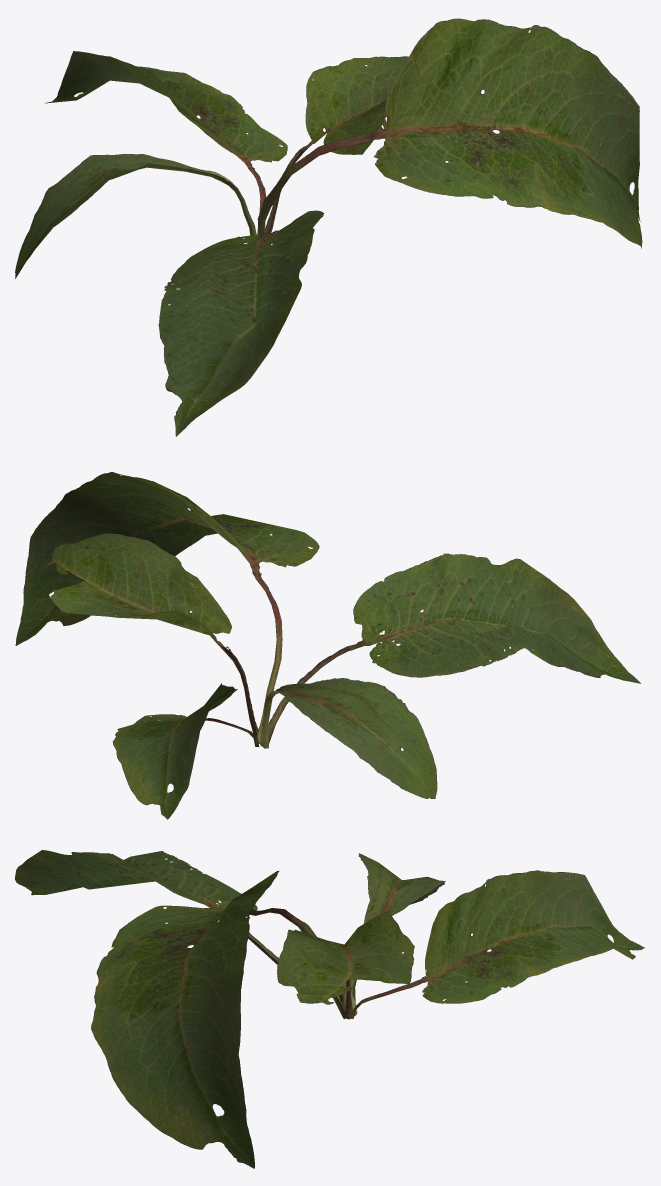
Rendered from weed_plant_02_c_LOD1.glb.
3 renders of one model, top to bottom at view 1: azimuth 30°, elevation 25°; view 2: azimuth 150°, elevation 25°; view 3: azimuth 270°, elevation 25°, orthographic. The views are drawn at different scales.
Parts seen in each view (by area): view 1: weed_plant_02_c_LOD1__lod0; view 2: weed_plant_02_c_LOD1__lod0; view 3: weed_plant_02_c_LOD1__lod0.
Part boxes in pixels (bbox=[...]): weed_plant_02_c_LOD1__lod0: bbox=[15, 18, 642, 436]; weed_plant_02_c_LOD1__lod0: bbox=[15, 472, 640, 819]; weed_plant_02_c_LOD1__lod0: bbox=[14, 850, 644, 1168].
Size of what is drawn, in the model's own units: 0.1424 by 0.0547 by 0.1435.
1 material, 1 textured.
